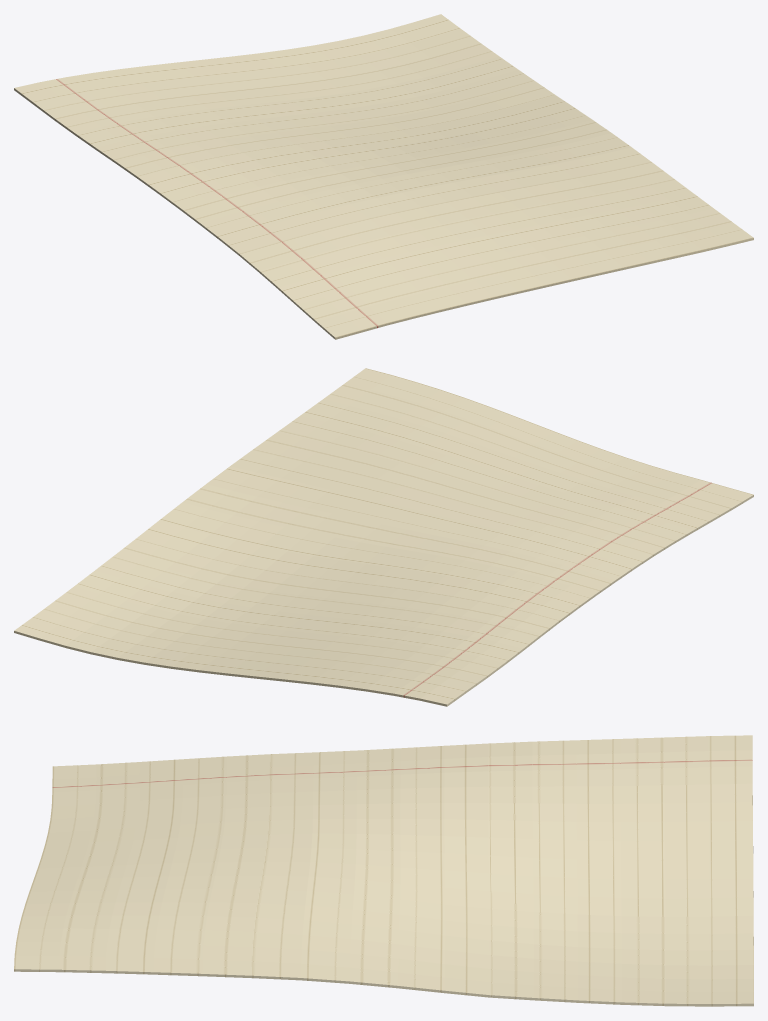
File: NoteDoc.fbx
3 views of the same model, one above another, from view 1: azimuth 30°, elevation 25°; view 2: azimuth 150°, elevation 25°; view 3: azimuth 270°, elevation 25° (orthographic). The views are drawn at different scales.
Visible parts, largest first — view 1: NoteDoc; view 2: NoteDoc; view 3: NoteDoc.
Boxes of the visible parts, x1,y1,x2,y2 form: NoteDoc: (14, 14, 753, 339); NoteDoc: (14, 368, 753, 706); NoteDoc: (14, 735, 753, 1006).
Size of the model in its own units: 26.85 by 2.17 by 35.9.
Materials: 1 (1 with a texture image).
